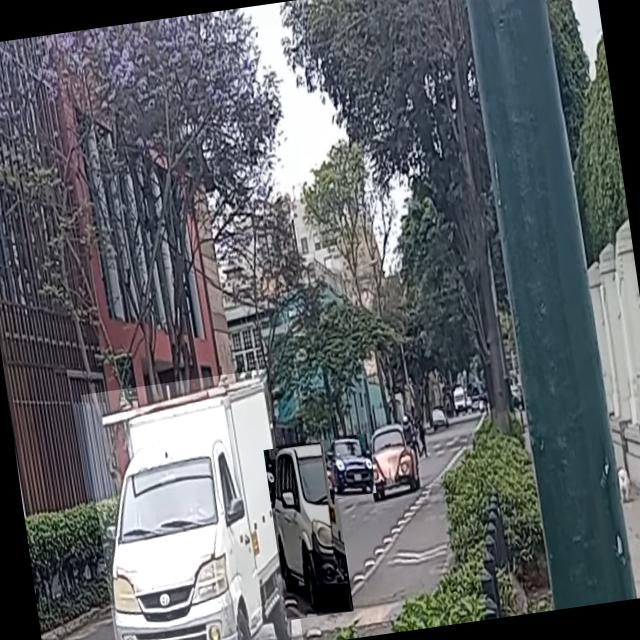car: (264, 440, 354, 620), (363, 426, 423, 494), (322, 434, 377, 499), (432, 408, 448, 428)
truck: (81, 369, 304, 640)
